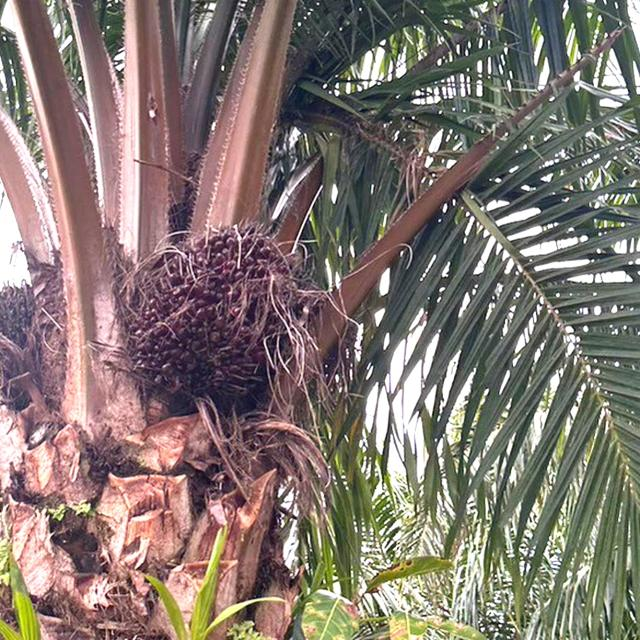ripe: (133, 218, 308, 390)
